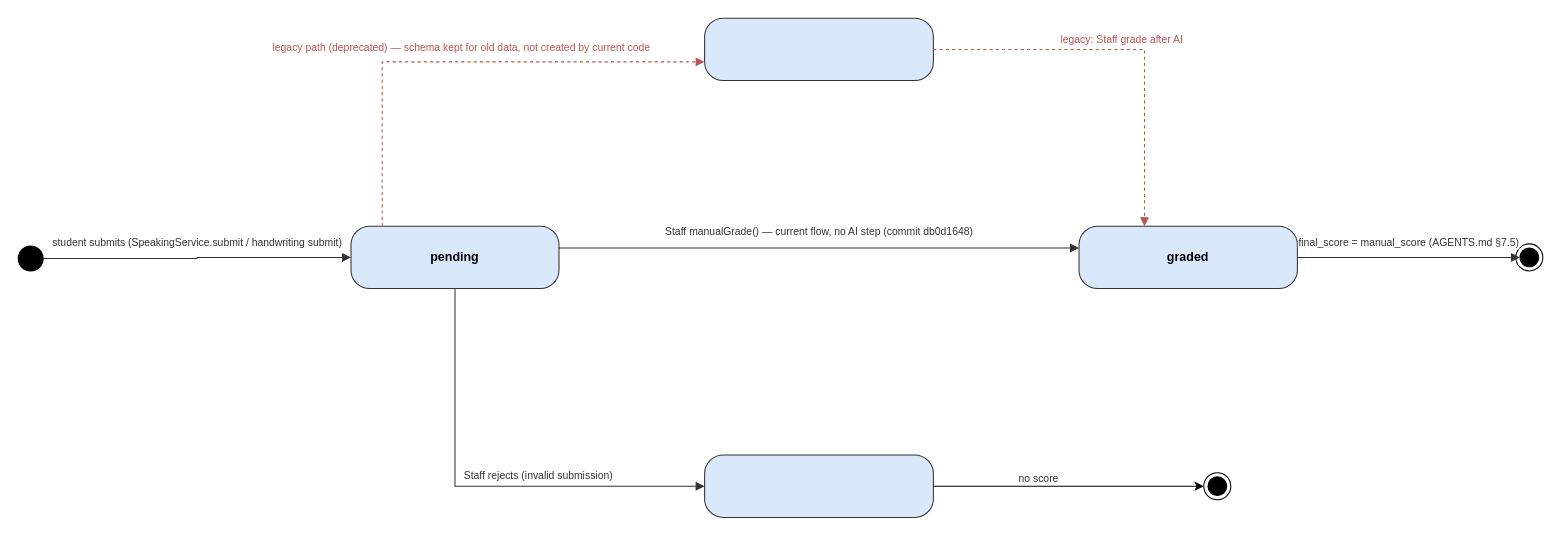
This 1561x536 diagram has some shape labels left out. The shapes that lost their labels are listed below. From the top down, each one's box as (x1, y1, x2, y2) in pixels, then its label:
(704, 17, 933, 81): ai_graded
(704, 454, 933, 517): rejected
